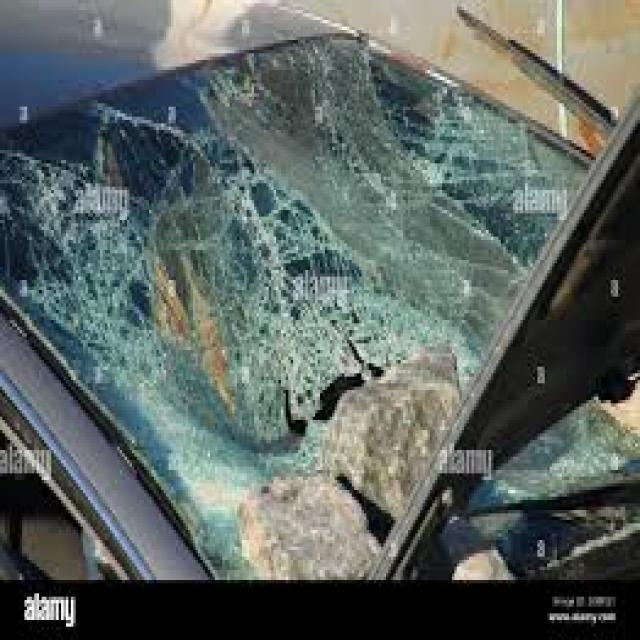damaged-windscreen: (0, 0, 518, 580)
